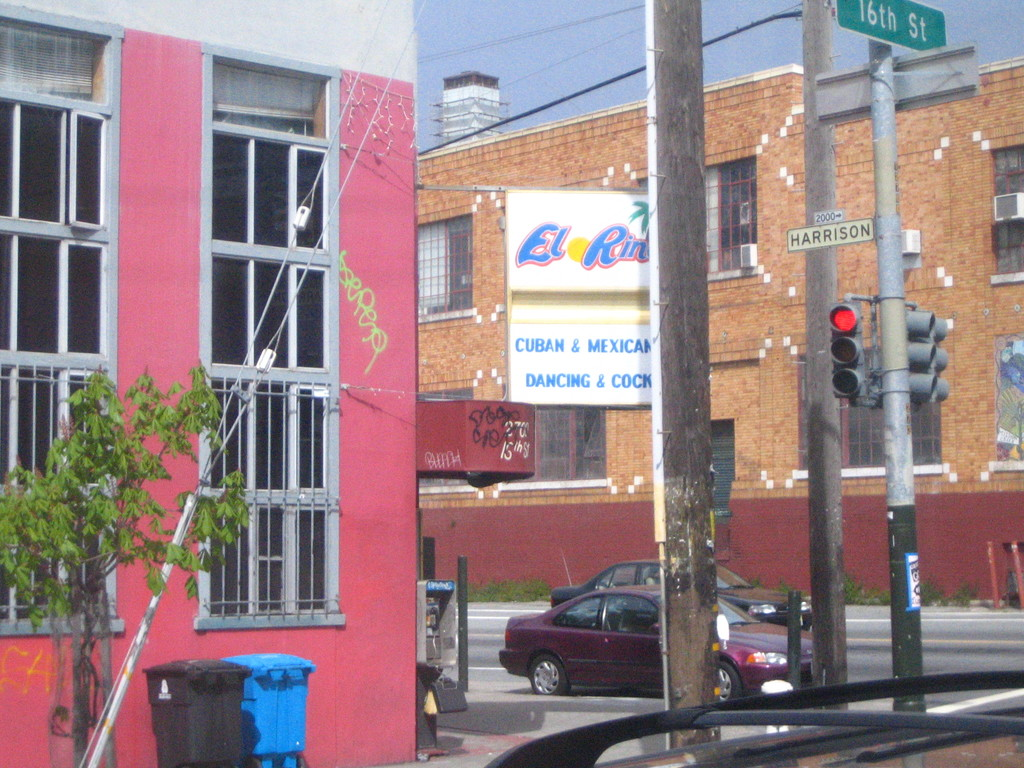Car: (483, 672, 1023, 767), (498, 581, 816, 701), (548, 554, 817, 632)
